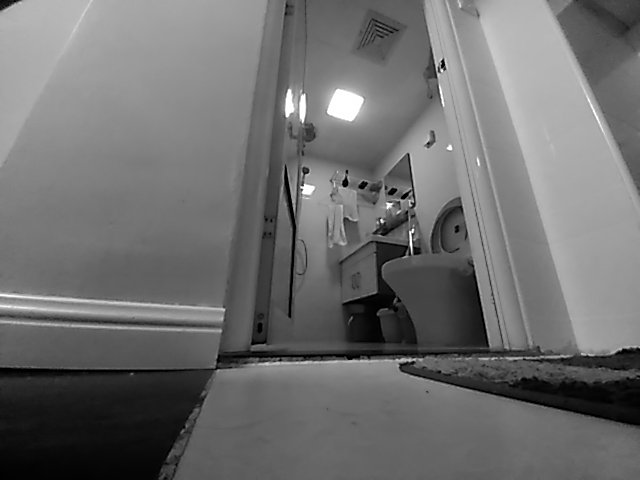carpet: (398, 346, 640, 430)
